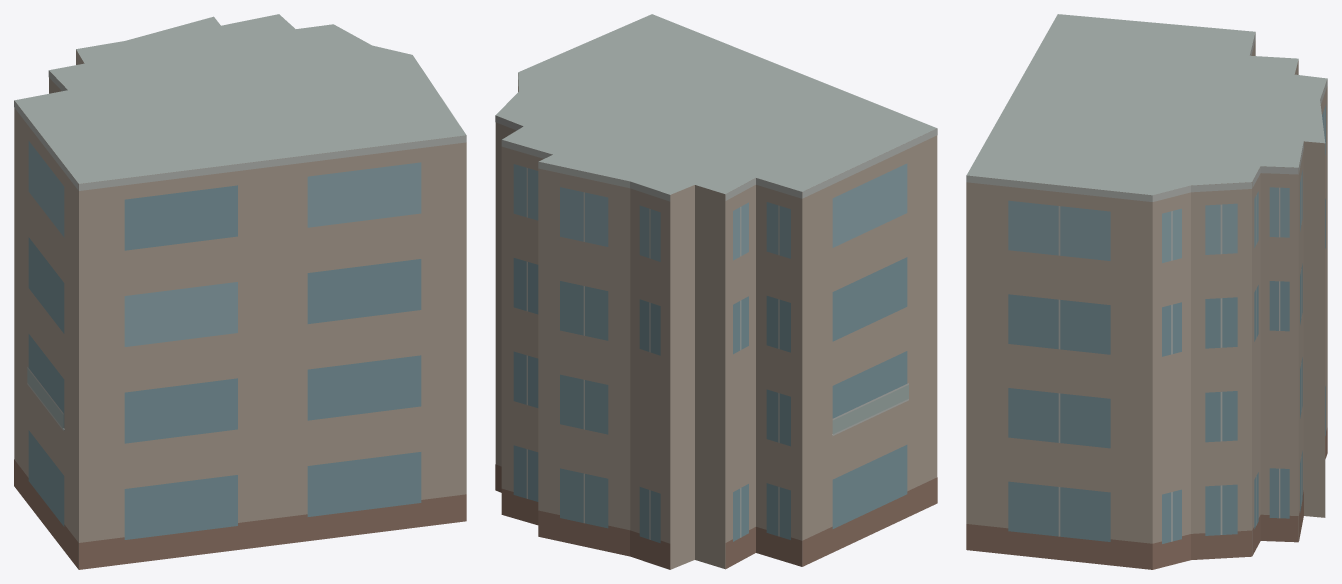
Rendered from survey-upis-32862050.glb.
3 renders of one model, left to right at view 1: azimuth 30°, elevation 25°; view 2: azimuth 150°, elevation 25°; view 3: azimuth 270°, elevation 25°, orthographic. The views are drawn at different scales.
Parts seen in each view (by area): view 1: survey-upis-32862050.tmp; view 2: survey-upis-32862050.tmp; view 3: survey-upis-32862050.tmp.
Boxes of the visible parts, left/top/right/bottom form: survey-upis-32862050.tmp: left=14, top=14, right=466, bottom=569; survey-upis-32862050.tmp: left=495, top=14, right=937, bottom=569; survey-upis-32862050.tmp: left=966, top=14, right=1327, bottom=569.
Bounding box in the file's own units: 13.8 × 13.29 × 11.62.
